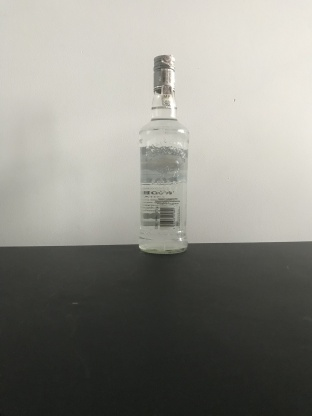nakretka: (151, 52, 177, 94)
